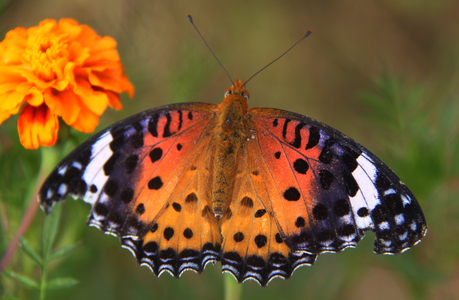Argyreus hyperbius: (36, 11, 428, 284)
butterfly: (38, 13, 430, 286)
